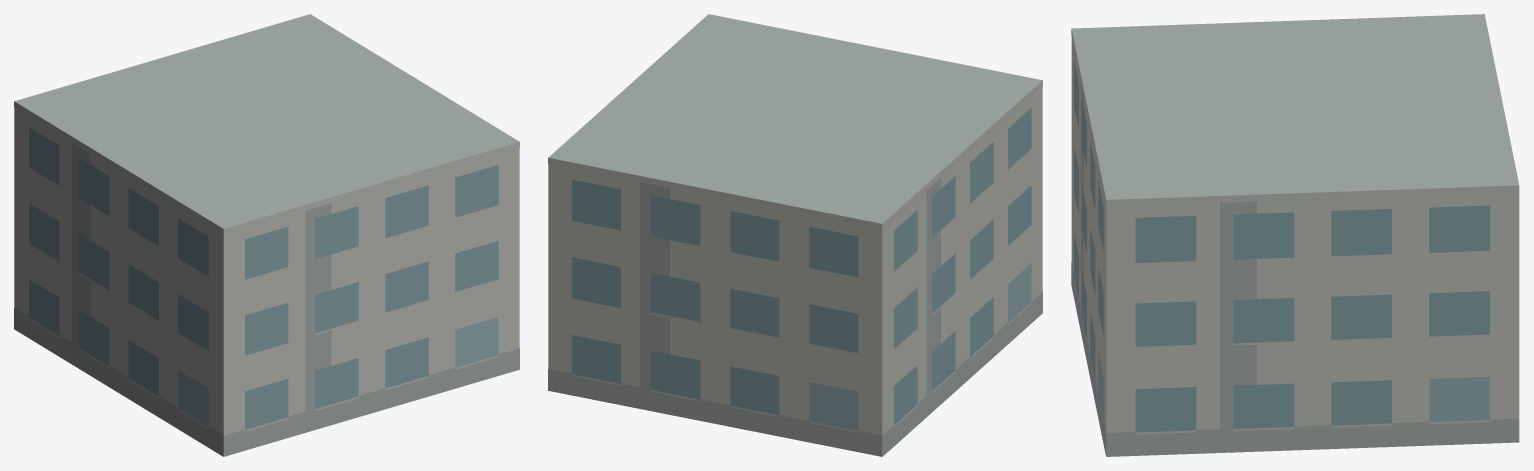
The model's file is survey-upis-32634303.glb.
3 views of the same model, side by side, from view 1: azimuth 30°, elevation 25°; view 2: azimuth 150°, elevation 25°; view 3: azimuth 270°, elevation 25° (orthographic). The views are drawn at different scales.
Visible parts, largest first — view 1: survey-upis-32634303.tmp; view 2: survey-upis-32634303.tmp; view 3: survey-upis-32634303.tmp.
Part boxes in pixels (left/top/right/bottom): survey-upis-32634303.tmp: left=14, top=14, right=519, bottom=456; survey-upis-32634303.tmp: left=548, top=14, right=1042, bottom=456; survey-upis-32634303.tmp: left=1071, top=14, right=1519, bottom=456.
Bounding box in the file's own units: 14.2 × 9.15 × 14.46.
